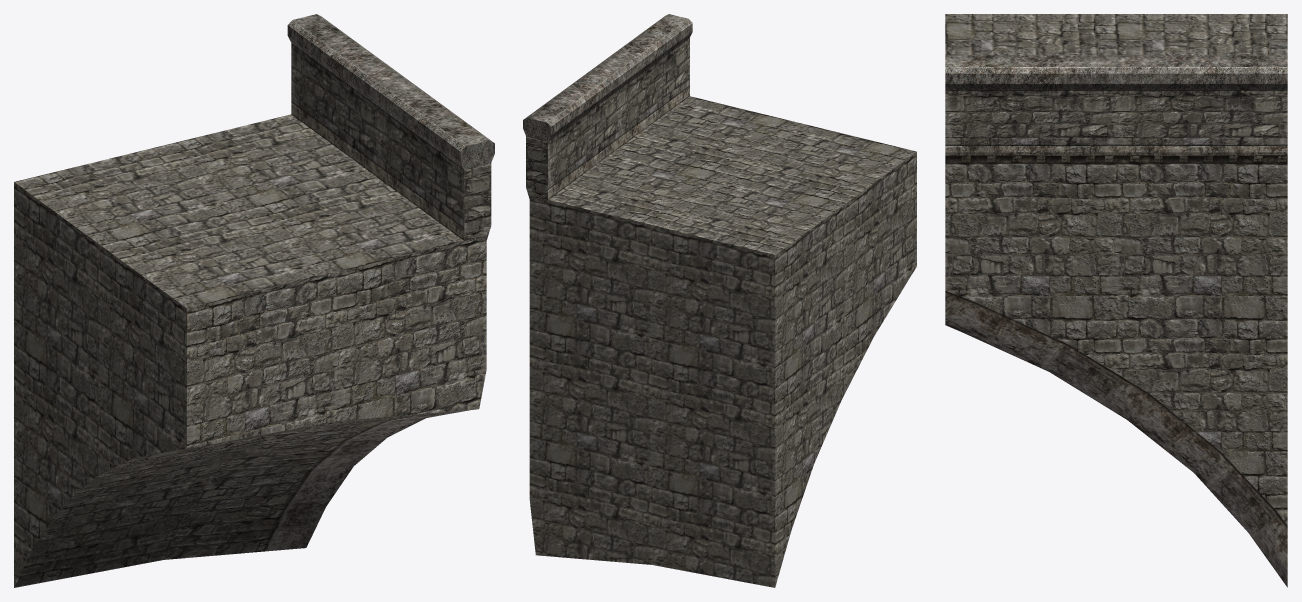
The model's file is StoneBridge_AbutmentDoubleRight.dae.
3 views of the same model, side by side, from view 1: azimuth 30°, elevation 25°; view 2: azimuth 150°, elevation 25°; view 3: azimuth 270°, elevation 25° (orthographic). The views are drawn at different scales.
Visible parts, largest first — view 1: AbutmentDouble, AbutmentDoubleT; view 2: AbutmentDouble, AbutmentDoubleT; view 3: AbutmentDouble, AbutmentDoubleT.
Part boxes in pixels (box(x1,y1,x2,y2)): AbutmentDouble: box(14, 114, 486, 587); AbutmentDoubleT: box(14, 14, 494, 587); AbutmentDouble: box(529, 96, 916, 587); AbutmentDoubleT: box(523, 14, 692, 199); AbutmentDouble: box(945, 14, 1287, 525); AbutmentDoubleT: box(945, 55, 1287, 587).
Size of the model in its own units: 4.11 by 6.78 by 4.
